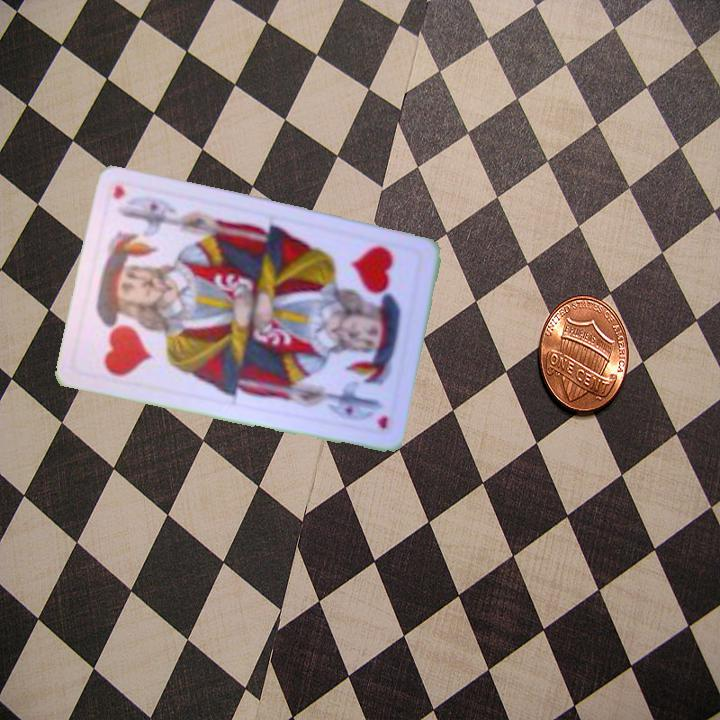h_j.png: (322, 231, 426, 346), (71, 274, 175, 388)
